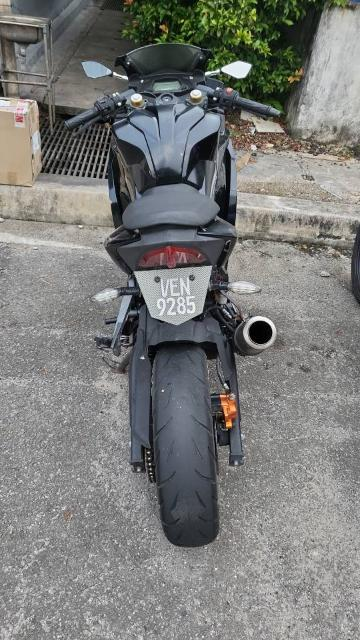License_Plate: (134, 266, 214, 327)
motorcycle: (64, 42, 283, 548)
